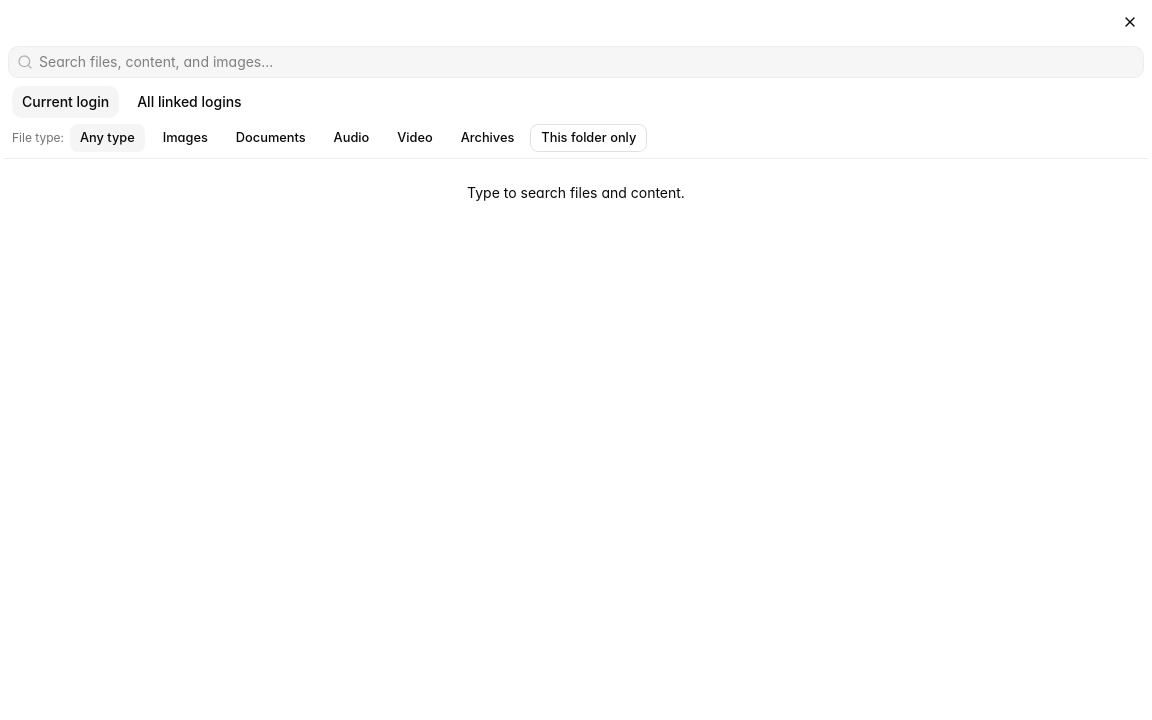
defaults to current login, labels account duplicates and omissions without hiding results
This screenshot has width=1152, height=720.
Type "same" into the dropdown with placeholder "Search files, content, and images...".
click(588, 62); type("same")  # box [33,52,1143,72]
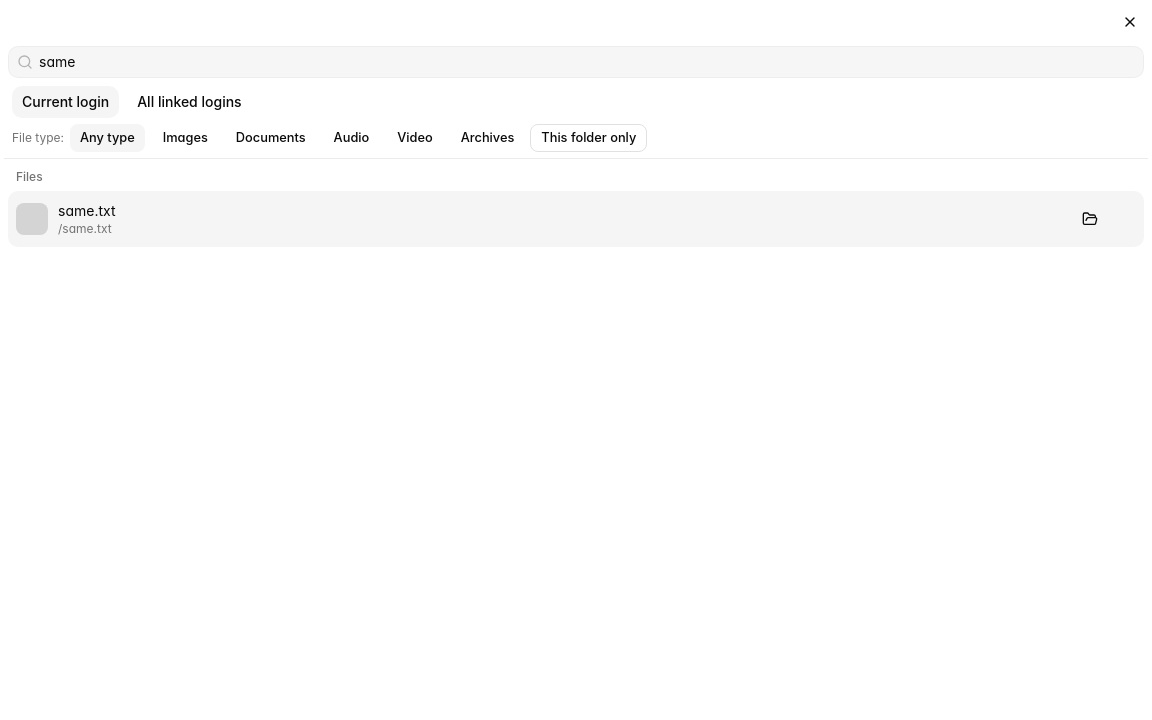
Expected: the text "same.txt" is shown once, [58,202,116,219]
Click the button "All linked logins".
click(189, 102)  # box [127,86,252,118]
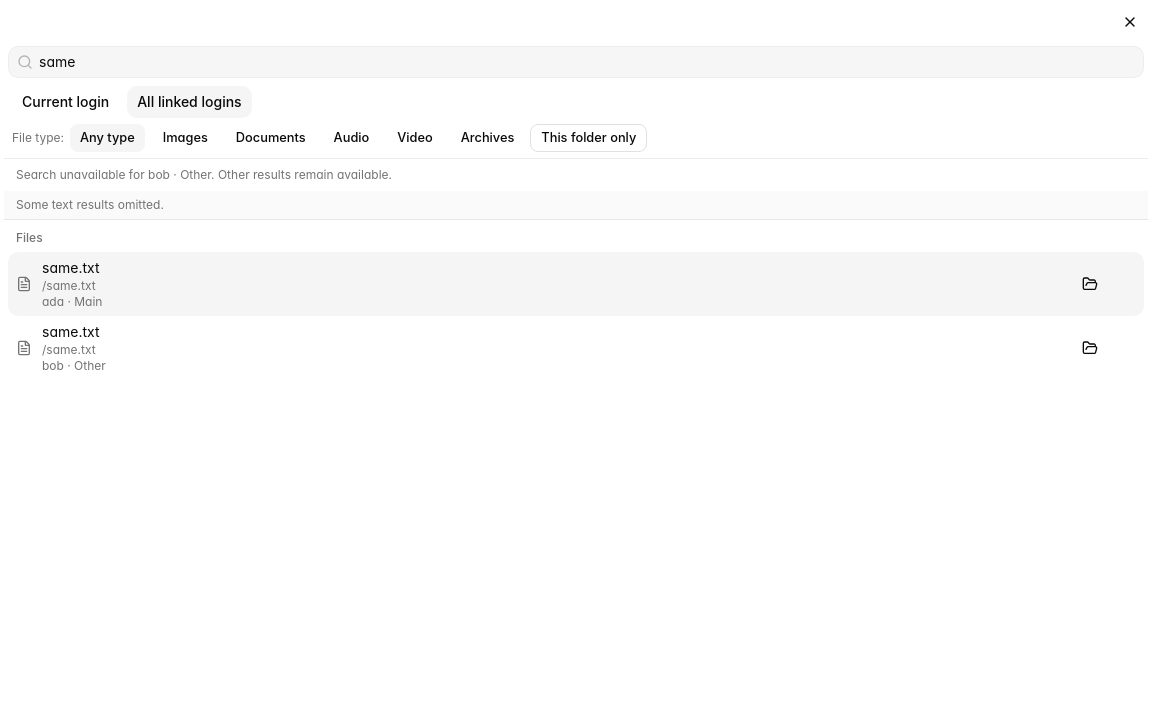
Expected: the text "same.txt" is shown 2 times, [42,259,100,276]; [42,323,100,340]
Expected: the text "ada · Main" is shown, [42,294,102,309]
Expected: the text "bob · Other" is shown, [42,358,106,373]
